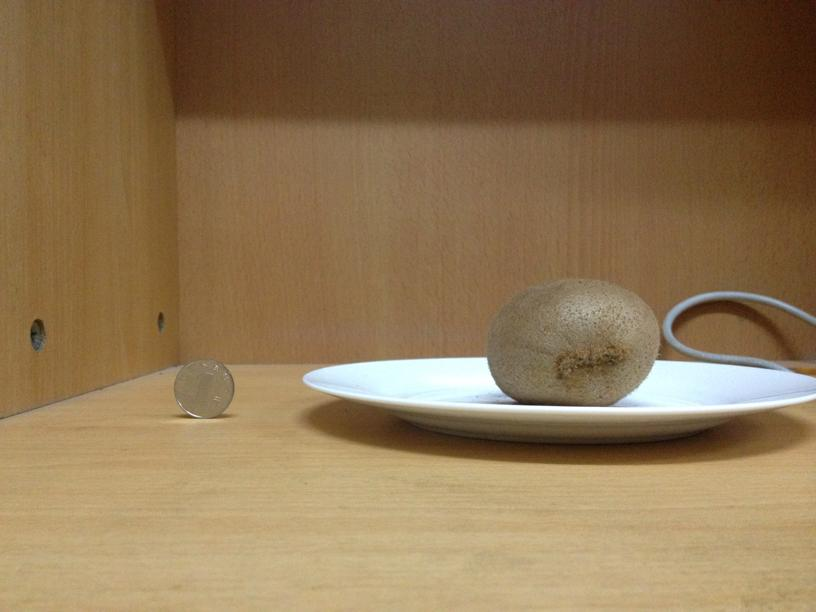coin: (173, 358, 234, 417)
qiwi: (486, 279, 661, 403)
